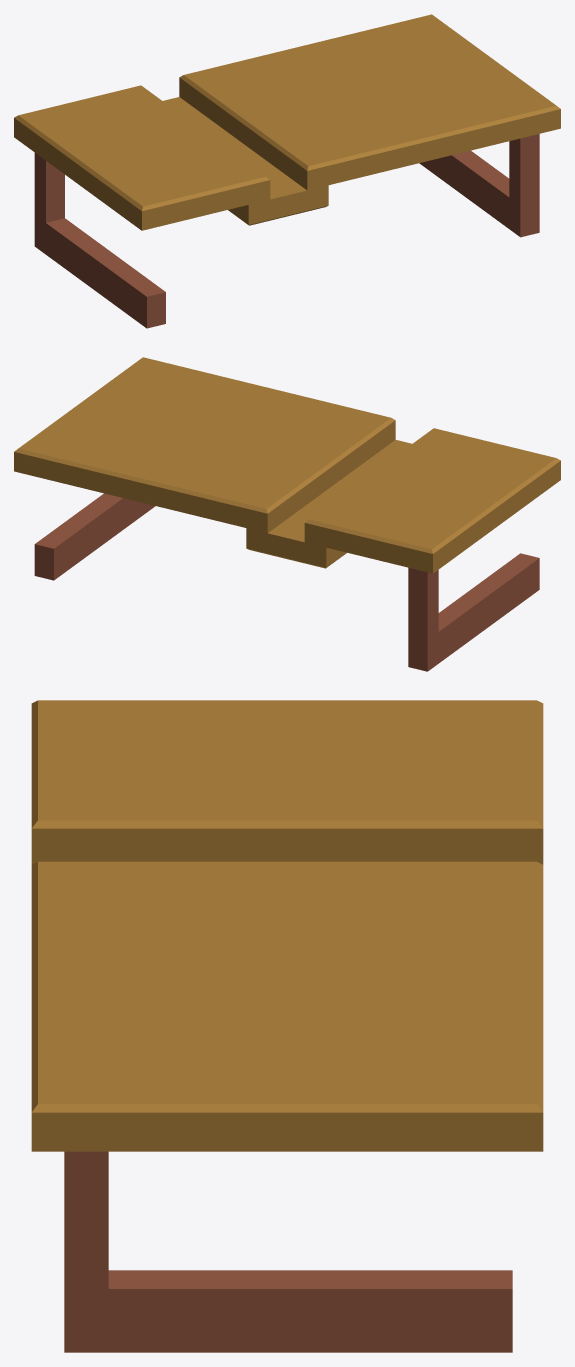
The model's file is coffe_table.fbx.
3 views of the same model, one above another, from view 1: azimuth 30°, elevation 25°; view 2: azimuth 150°, elevation 25°; view 3: azimuth 270°, elevation 25° (orthographic). The views are drawn at different scales.
Parts seen in each view (by area): view 1: Cube.003, Cube.005; view 2: Cube.003, Cube.005; view 3: Cube.003, Cube.005.
Part boxes in pixels (x1,y1,x2,y2): Cube.003: (14, 14, 560, 230); Cube.005: (34, 134, 539, 328); Cube.003: (14, 357, 560, 573); Cube.005: (34, 493, 539, 671); Cube.003: (31, 700, 543, 1151); Cube.005: (64, 1151, 512, 1352).
Size of the model in its own units: 123 by 36.3 by 65.07.
